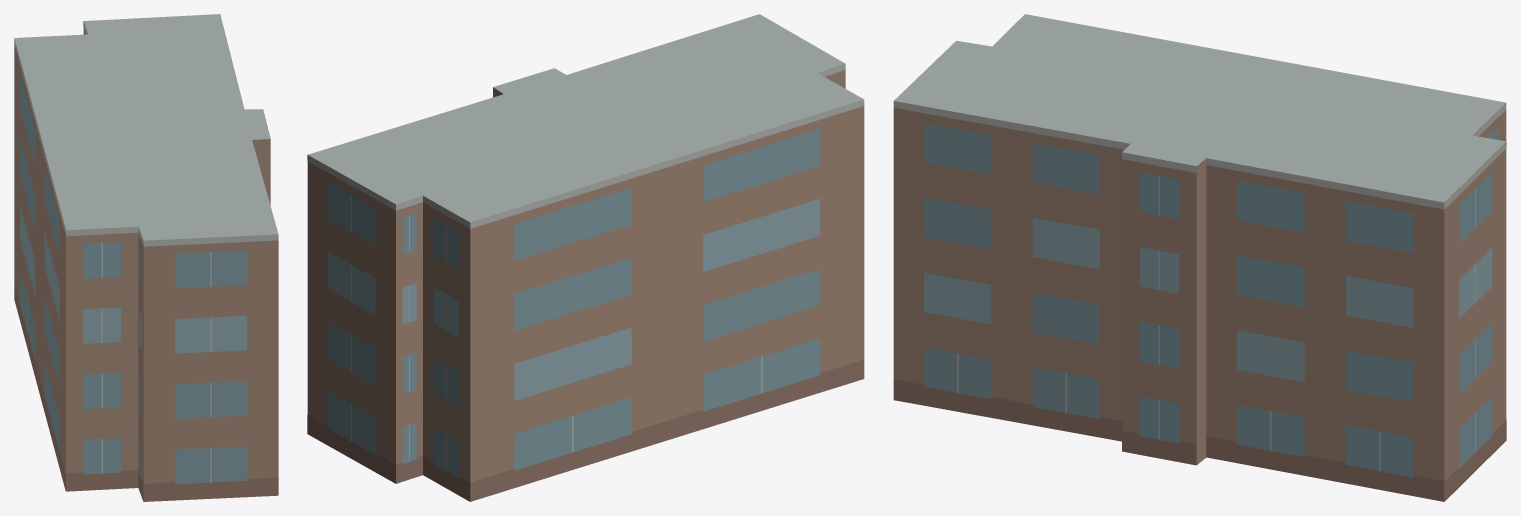
File: survey-upis-32523513.glb
3 views of the same model, side by side, from view 1: azimuth 30°, elevation 25°; view 2: azimuth 150°, elevation 25°; view 3: azimuth 270°, elevation 25° (orthographic). The views are drawn at different scales.
Parts seen in each view (by area): view 1: survey-upis-32523513.tmp; view 2: survey-upis-32523513.tmp; view 3: survey-upis-32523513.tmp.
Boxes of the visible parts, box(x1,y1,x2,y2) form: survey-upis-32523513.tmp: box(14, 14, 278, 501); survey-upis-32523513.tmp: box(307, 14, 864, 501); survey-upis-32523513.tmp: box(893, 14, 1506, 501).
Size of the model in its own units: 14.34 by 10.6 by 19.68.
